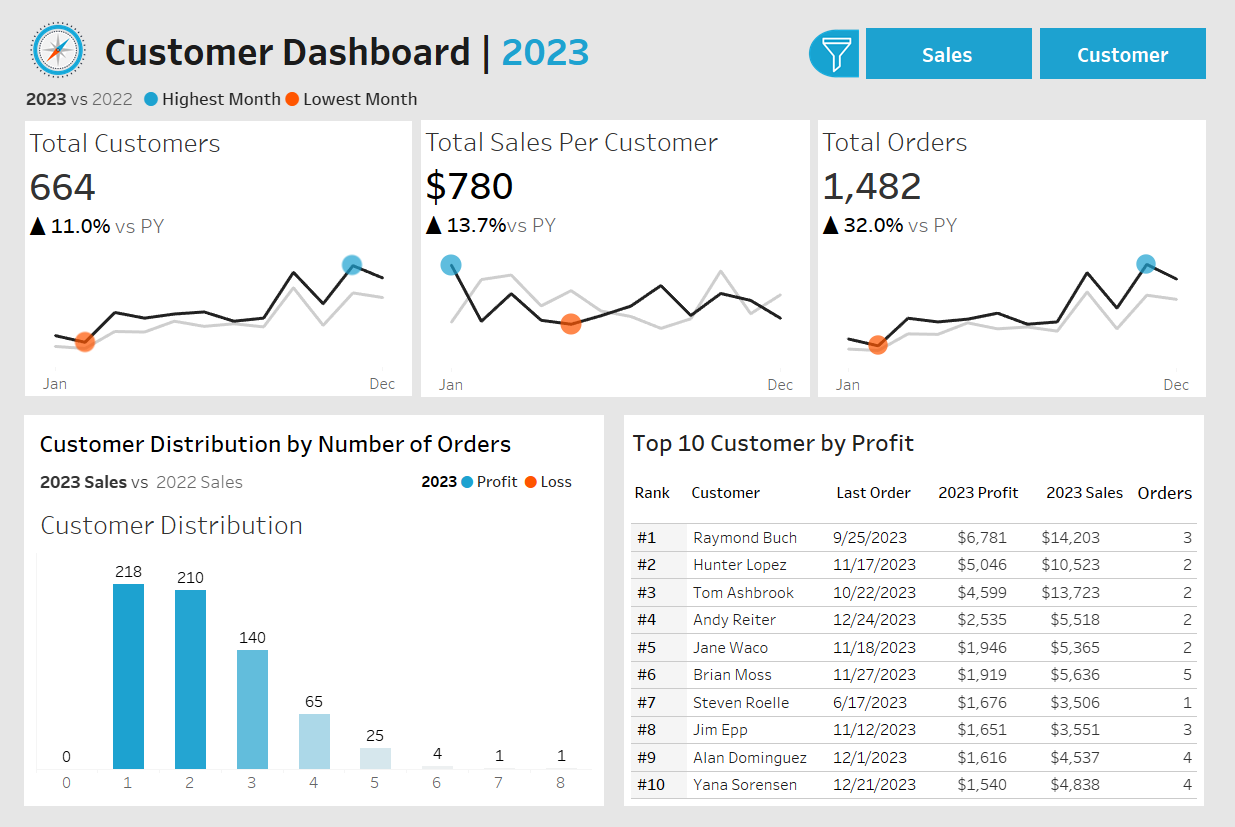

What the dashboard file says about the page in this screenshot:
{"tool":"tableau","page":{"name":"Customer Dashboard","canvas":[1200,800],"ordinal":0},"visuals":[{"type":"image","param":"Image/Icon - Logo.png","box":[5,0,77.5,67]},{"type":"text","box":[82.5,0,762,67]},{"type":"dashboard-object","box":[848,8,174,59]},{"type":"dashboard-object","box":[1022,8,174,59]},{"type":"blank","box":[974,10,215,41]},{"type":"dashboard-object","box":[786,12,67,51]},{"type":"text","box":[974,51,215,102]},{"type":"worksheet","title":"Legend KPI","mark":"Automatic","box":[0,67,1200,29]},{"type":"worksheet","title":"KPI Customers","mark":"Automatic","rows":["Min/Max Profit (copy)_1150388292931670042"],"cols":["Order Date"],"box":[6,100,397,285]},{"type":"worksheet","title":"KPI Sales per Customer","mark":"Automatic","rows":["Min/Max Customer (copy)_1150388292936527904"],"cols":["Order Date"],"box":[403,100,397,285]},{"type":"worksheet","title":"KPI Orders","mark":"Automatic","rows":["Min/Max Customer (copy)_1134344219292381188"],"cols":["Order Date"],"box":[800,100,396,285]},{"type":"parameter","param":"[Parameters].[Parameter 1]","box":[974,153,215,91]},{"type":"blank","box":[974,244,215,57]},{"type":"text","box":[974,301,215,41]},{"type":"filter","title":"KPI Customers","param":"[federated.0xkjjtl09v1egp16gh0t11nqntk3].[none:Category:nk]","box":[974,342,215,61]},{"type":"text","box":[613,402,574,47]},{"type":"filter","title":"KPI Customers","param":"[federated.0xkjjtl09v1egp16gh0t11nqntk3].[none:Sub-Category:nk]","box":[974,403,215,61]},{"type":"text","box":[18,407,564,40]},{"type":"worksheet","title":"Legend Subcategory","mark":"Automatic","box":[18,447,382,36]},{"type":"text","box":[400,447,182,36]},{"type":"text","box":[613,449,57,54]},{"type":"text","box":[670,449,145,54]},{"type":"text","box":[815,449,102,54]},{"type":"text","box":[917,449,108,54]},{"type":"text","box":[1025,449,91,54]},{"type":"text","box":[1116,449,71,54]},{"type":"blank","box":[974,464,215,67]},{"type":"worksheet","title":"Customer Distribution","mark":"Automatic","rows":["CY Profit (copy)_1150388292928348179"],"cols":["Calculation_1134344219298213895"],"box":[18,483,564,299]},{"type":"worksheet","title":"Top Customers","mark":"Automatic","rows":["Calculation_1134344219301048329","Customer Name","Order Date"],"box":[613,503,574,284]},{"type":"text","box":[974,531,215,33]},{"type":"filter","title":"KPI Customers","param":"[federated.0xkjjtl09v1egp16gh0t11nqntk3].[none:Region:nk]","box":[974,564,215,61]},{"type":"filter","title":"KPI Customers","param":"[federated.0xkjjtl09v1egp16gh0t11nqntk3].[none:State:nk]","box":[974,625,215,61]},{"type":"filter","title":"KPI Customers","param":"[federated.0xkjjtl09v1egp16gh0t11nqntk3].[none:City:nk]","box":[974,686,215,61]}]}

Visuals, with their boxes in screenshot pixels (x1, y1, x2, y2), scaled from the page's 1200x800 canvas onto the 1235x827 screenshot:
image: x1=5 y1=0 x2=85 y2=69
text: x1=85 y1=0 x2=869 y2=69
dashboard-object: x1=873 y1=8 x2=1052 y2=69
dashboard-object: x1=1052 y1=8 x2=1231 y2=69
blank: x1=1002 y1=10 x2=1224 y2=53
dashboard-object: x1=809 y1=12 x2=878 y2=65
text: x1=1002 y1=53 x2=1224 y2=158
"Legend KPI" worksheet: x1=0 y1=69 x2=1234 y2=99
"KPI Customers" worksheet: x1=6 y1=103 x2=415 y2=398
"KPI Sales per Customer" worksheet: x1=415 y1=103 x2=823 y2=398
"KPI Orders" worksheet: x1=823 y1=103 x2=1231 y2=398
parameter: x1=1002 y1=158 x2=1224 y2=252
blank: x1=1002 y1=252 x2=1224 y2=311
text: x1=1002 y1=311 x2=1224 y2=354
"KPI Customers" filter: x1=1002 y1=354 x2=1224 y2=417
text: x1=631 y1=416 x2=1222 y2=464
"KPI Customers" filter: x1=1002 y1=417 x2=1224 y2=480
text: x1=19 y1=421 x2=599 y2=462
"Legend Subcategory" worksheet: x1=19 y1=462 x2=412 y2=499
text: x1=412 y1=462 x2=599 y2=499
text: x1=631 y1=464 x2=690 y2=520
text: x1=690 y1=464 x2=839 y2=520
text: x1=839 y1=464 x2=944 y2=520
text: x1=944 y1=464 x2=1055 y2=520
text: x1=1055 y1=464 x2=1149 y2=520
text: x1=1149 y1=464 x2=1222 y2=520
blank: x1=1002 y1=480 x2=1224 y2=549
"Customer Distribution" worksheet: x1=19 y1=499 x2=599 y2=808
"Top Customers" worksheet: x1=631 y1=520 x2=1222 y2=814
text: x1=1002 y1=549 x2=1224 y2=583
"KPI Customers" filter: x1=1002 y1=583 x2=1224 y2=646
"KPI Customers" filter: x1=1002 y1=646 x2=1224 y2=709
"KPI Customers" filter: x1=1002 y1=709 x2=1224 y2=772
